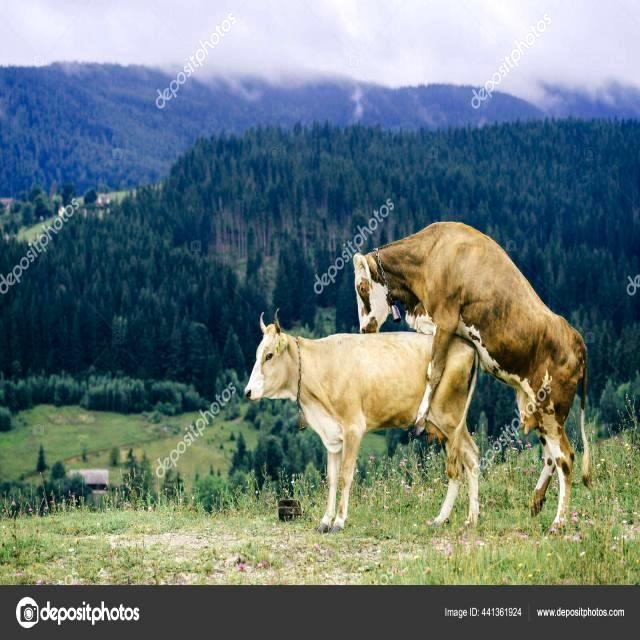COW: (355, 222, 590, 529), (245, 319, 431, 531), (430, 338, 479, 525)
